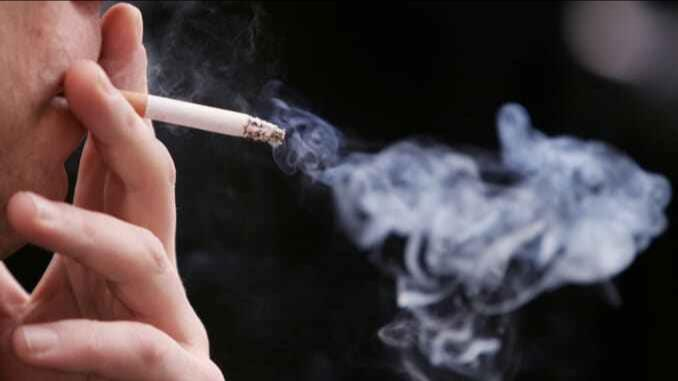Cigarette: (114, 87, 286, 146)
Smoke: (336, 135, 666, 273)
